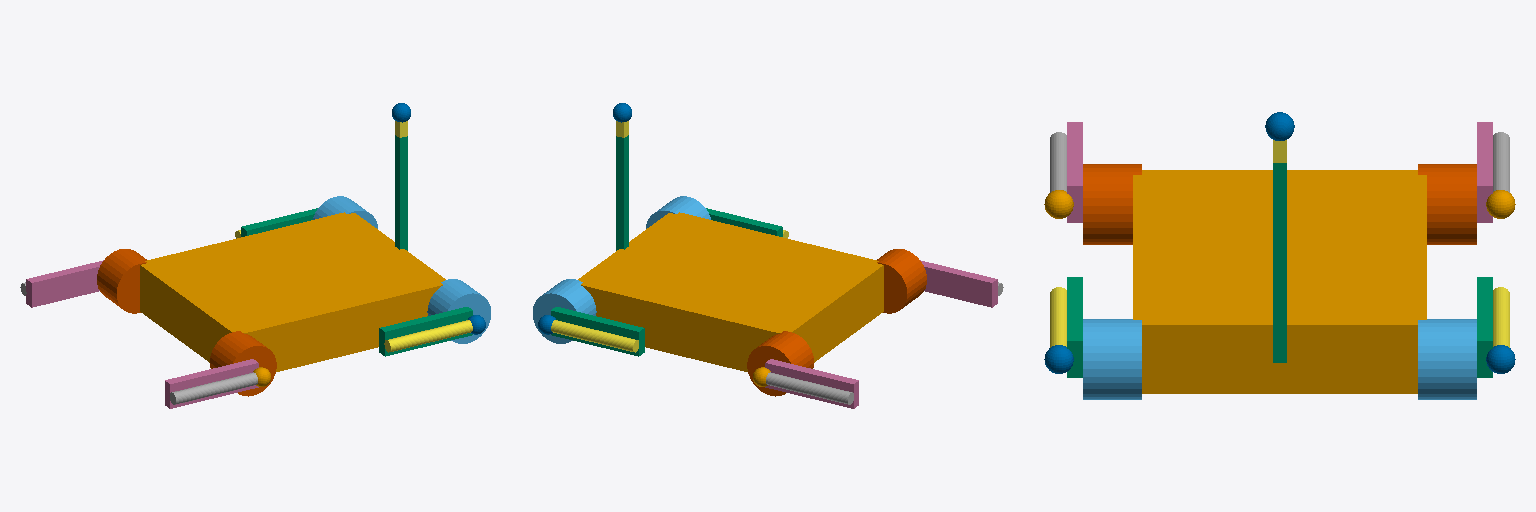
--- Facts derived from the render (not from the file) ---
3 views of the same robot in one strip: view 1: azimuth 30°, elevation 25°; view 2: azimuth 150°, elevation 25°; view 3: azimuth 270°, elevation 25° (orthographic).
Model spirit with 21 links and 20 joints (14 revolute, 6 fixed), rooted at body, posed joints at zero except 1 at the middle of their limits (body_tail_joint_0 = -1.57).
Links seen in each view (by area): view 1: body, hip1, upper1, hip3, hip2, upper2, upper3, tail_link_0, lower2, lower3, hip0, upper0; view 2: body, hip3, upper3, hip1, hip0, upper0, upper1, tail_link_0, lower1, lower0, hip2, upper2; view 3: body, hip0, hip2, hip1, hip3, tail_link_0, upper1, upper3, upper0, upper2, lower0, lower1 (+7 smaller).
Boxes of the visible links, bbox=[...] form: body: bbox=[140, 212, 445, 371]; hip1: bbox=[97, 249, 146, 313]; upper1: bbox=[26, 260, 103, 307]; hip3: bbox=[210, 331, 276, 396]; hip2: bbox=[427, 279, 490, 343]; upper2: bbox=[379, 307, 472, 356]; upper3: bbox=[165, 359, 258, 408]; tail_link_0: bbox=[395, 135, 407, 250]; lower2: bbox=[384, 320, 472, 352]; lower3: bbox=[170, 372, 257, 404]; hip0: bbox=[313, 196, 377, 228]; upper0: bbox=[241, 208, 317, 236]; body: bbox=[578, 212, 883, 371]; hip3: bbox=[877, 249, 926, 313]; upper3: bbox=[920, 260, 997, 307]; hip1: bbox=[747, 331, 813, 396]; hip0: bbox=[533, 279, 596, 343]; upper0: bbox=[551, 307, 644, 356]; upper1: bbox=[765, 359, 858, 408]; tail_link_0: bbox=[616, 135, 628, 250]; lower1: bbox=[766, 372, 853, 404]; lower0: bbox=[551, 320, 638, 352]; hip2: bbox=[646, 196, 710, 228]; upper2: bbox=[706, 208, 782, 236]; body: bbox=[1133, 170, 1426, 393]; hip0: bbox=[1418, 319, 1476, 399]; hip2: bbox=[1083, 319, 1141, 399]; hip1: bbox=[1418, 164, 1476, 244]; hip3: bbox=[1083, 164, 1141, 244]; tail_link_0: bbox=[1273, 163, 1286, 362]; upper1: bbox=[1477, 122, 1492, 222]; upper3: bbox=[1067, 122, 1082, 222]; upper0: bbox=[1477, 277, 1492, 377]; upper2: bbox=[1067, 277, 1082, 377]; lower0: bbox=[1493, 287, 1509, 347]; lower1: bbox=[1493, 132, 1509, 192].
Bounding box of the posed robot: 0.761 × 0.642 × 0.425 m (x, y, z).
Geometry: primitives only (box / cylinder / sphere), no mesh files.

robot.urdf — spirit:
<?xml version="1.0" encoding="utf-8"?>
<!-- =================================================================================== -->
<!-- |    This document was autogenerated by xacro from working_gazebo.urdf.xacro      | -->
<!-- |    EDITING THIS FILE BY HAND IS NOT RECOMMENDED                                 | -->
<!-- =================================================================================== -->
<!-- 
MIT License (modified)
Copyright (c) 2020 Ghost Robotics
Authors:
Avik De <[email redacted]>
Tom Jacobs <[email redacted]>
Permission is hereby granted, free of charge, to any person obtaining a copy
of this **file** (the "Software"), to deal
in the Software without restriction, including without limitation the rights
to use, copy, modify, merge, publish, distribute, sublicense, and/or sell
copies of the Software, and to permit persons to whom the Software is
furnished to do so, subject to the following conditions:
The above copyright notice and this permission notice shall be included in all
copies or substantial portions of the Software.
THE SOFTWARE IS PROVIDED "AS IS", WITHOUT WARRANTY OF ANY KIND, EXPRESS OR
IMPLIED, INCLUDING BUT NOT LIMITED TO THE WARRANTIES OF MERCHANTABILITY,
FITNESS FOR A PARTICULAR PURPOSE AND NONINFRINGEMENT. IN NO EVENT SHALL THE
AUTHORS OR COPYRIGHT HOLDERS BE LIABLE FOR ANY CLAIM, DAMAGES OR OTHER
LIABILITY, WHETHER IN AN ACTION OF CONTRACT, TORT OR OTHERWISE, ARISING FROM,
OUT OF OR IN CONNECTION WITH THE SOFTWARE OR THE USE OR OTHER DEALINGS IN THE
SOFTWARE. 
-->
<robot name="spirit">
  <!-- Body -->
  <link name="body">
    <visual>
      <origin rpy="0 0 0" xyz="0 0 0"/>
      <geometry>
        <box size="0.5 0.4 0.104"/>
      </geometry>
      <material name="darkgray"/>
    </visual>
    <inertial>
      <mass value="5.75"/>
      <!-- Uniform box -->
      <!-- <inertia ixx="1/12*${bodyMass}*(${bodyWidth}*${bodyWidth} + ${bodyHeight}*${bodyHeight})"  ixy="0"  ixz="0" iyy="1/12*${bodyMass}*(${bodyLength}*${bodyLength} + ${bodyHeight}*${bodyHeight})" iyz="0" izz="1/12*${bodyMass}*(${bodyLength}*${bodyLength} + ${bodyWidth}*${bodyWidth})"/> -->
      <inertia ixx="0.05" ixy="0" ixz="0" iyy="0.1" iyz="0" izz="0.1"/>
    </inertial>
    <!-- Just copy geometry for collision -->
    <collision>
      <origin rpy="0 0 0" xyz="0 0 0"/>
      <geometry>
        <box size="0.5 0.4 0.104"/>
      </geometry>
    </collision>
  </link>
  <gazebo reference="body">
    <material>Gazebo/Black</material>
    <gravity>true</gravity>
  </gazebo>
  <!-- Hip motor -->
  <link name="hip0">
    <visual>
      <origin rpy="1.5707963268 0 0" xyz="0 0.028 0"/>
      <geometry>
        <cylinder length="0.08" radius="0.055"/>
      </geometry>
    </visual>
    <collision>
      <origin rpy="1.5707963268 0 0" xyz="0 0.028 0"/>
      <geometry>
        <cylinder length="0.08" radius="0.055"/>
      </geometry>
    </collision>
    <inertial>
      <origin rpy="1.5707963268 0 0" xyz="0 0.028 0"/>
      <mass value="0.575"/>
      <!-- <inertia ixx="1/12*${podMass}*${podLength}*${podLength} + 1/4*${podMass}*${podRadius}*${podRadius}"  ixy="0"  ixz="0" iyy="1/12*${podMass}*${podLength}*${podLength} + 1/4*${podMass}*${podRadius}*${podRadius}" iyz="0" izz="1/2*${podMass}*${podRadius}*$
				{podRadius}" /> -->
      <inertia ixx="0.00066963541" ixy="0" ixz="0" iyy="0.00066963541" iyz="0" izz="0.0008696875"/>
    </inertial>
  </link>
  <gazebo reference="hip0">
    <material>Gazebo/Grey</material>
  </gazebo>
  <!-- Upper leg -->
  <link name="upper0">
    <visual>
      <origin rpy="0 0 0" xyz="-0.103 -0.022 0"/>
      <geometry>
        <box size="0.206 0.022 0.055"/>
      </geometry>
      <material name="silver"/>
    </visual>
    <collision>
      <origin rpy="0 0 0" xyz="-0.103 -0.022 0"/>
      <geometry>
        <box size="0.206 0.022 0.055"/>
      </geometry>
    </collision>
    <inertial>
      <origin rpy="0 0 0" xyz="-0.103 -0.022 0"/>
      <mass value="0.775"/>
      <inertia ixx="5e-05" ixy="0" ixz="0" iyy="0.001" iyz="0" izz="0.001"/>
    </inertial>
  </link>
  <gazebo reference="upper0">
    <material>Gazebo/DarkGrey</material>
  </gazebo>
  <!-- Abduction joint. Joint names are: 8 9 10 11 -->
  <joint name="8" type="revolute">
    <parent link="body"/>
    <child link="hip0"/>
    <axis xyz="1 0 0"/>
    <origin xyz="0.25 0.2 0"/>
    <limit effort="40" lower="-0.707" upper="0.707" velocity="30"/>
    <dynamics damping="0.0" friction="0.0"/>
  </joint>
  <!-- Transmission elements required for Gazebo -->
  <transmission name="transmission_8">
    <type>transmission_interface/SimpleTransmission</type>
    <joint name="8">
      <hardwareInterface>hardware_interface/EffortJointInterface</hardwareInterface>
    </joint>
    <actuator name="motor_8">
      <hardwareInterface>EffortJointInterface</hardwareInterface>
      <mechanicalReduction>1</mechanicalReduction>
    </actuator>
  </transmission>
  <!-- Hip joint. (Motor to upper leg). Joint names are: 0 2 4 6 -->
  <joint name="0" type="revolute">
    <parent link="hip0"/>
    <child link="upper0"/>
    <axis xyz="0 -1 0"/>
    <origin xyz="0 0.10098 0"/>
    <!--  rpy="0 -0.3 0" -->
    <limit effort="40" lower="-6.28318530718" upper="6.28318530718" velocity="30"/>
    <dynamics damping="0.0" friction="0.0"/>
  </joint>
  <!-- Transmission elements required for Gazebo -->
  <transmission name="transmission_0">
    <type>transmission_interface/SimpleTransmission</type>
    <joint name="0">
      <hardwareInterface>hardware_interface/EffortJointInterface</hardwareInterface>
    </joint>
    <actuator name="motor_0">
      <hardwareInterface>EffortJointInterface</hardwareInterface>
      <mechanicalReduction>1</mechanicalReduction>
    </actuator>
  </transmission>
  <!-- Lower leg -->
  <link name="lower0">
    <visual>
      <origin rpy="0 1.5707963268 0" xyz="0.103 0 0"/>
      <geometry>
        <cylinder length="0.206" radius="0.013"/>
      </geometry>
      <material name="darkgray"/>
    </visual>
    <collision>
      <origin rpy="0 1.5707963268 0" xyz="0.103 0 0"/>
      <geometry>
        <cylinder length="0.206" radius="0.013"/>
      </geometry>
    </collision>
    <inertial>
      <origin rpy="0 1.5707963268 0" xyz="0.103 0 0"/>
      <mass value="0.075"/>
      <inertia ixx="5e-06" ixy="0" ixz="0" iyy="0.0001" iyz="0" izz="0.0001"/>
    </inertial>
  </link>
  <gazebo reference="lower0">
    <material>Gazebo/Grey</material>
  </gazebo>
  <!-- Knee joint. Joint names are: 1 3 5 7 -->
  <joint name="1" type="revolute">
    <parent link="upper0"/>
    <child link="lower0"/>
    <axis xyz="0 1 0"/>
    <origin xyz="-0.206 0 0"/>
    <!--rpy="0 0.5 0"-->
    <limit effort="40" lower="0" upper="3.14159265359" velocity="30"/>
    <dynamics damping="0.0" friction="0.0"/>
  </joint>
  <!-- Transmission elements required for Gazebo -->
  <transmission name="transmission_1">
    <type>transmission_interface/SimpleTransmission</type>
    <joint name="1">
      <hardwareInterface>hardware_interface/EffortJointInterface</hardwareInterface>
    </joint>
    <actuator name="motor_1">
      <hardwareInterface>EffortJointInterface</hardwareInterface>
      <mechanicalReduction>1</mechanicalReduction>
    </actuator>
  </transmission>
  <!-- Toe -->
  <link name="toe0">
    <contact>
      <friction_anchor/>
      <stiffness value="30000.0"/>
      <damping value="1000.0"/>
      <spinning_friction value="0.3"/>
      <lateral_friction value="50.0"/>
    </contact>
    <visual>
      <origin rpy="0 0 0" xyz="0 0 0"/>
      <geometry>
        <sphere radius="0.02"/>
      </geometry>
      <material name="darkgray"/>
    </visual>
    <collision>
      <origin rpy="0 0 0" xyz="0 0 0"/>
      <geometry>
        <sphere radius="0.02"/>
      </geometry>
    </collision>
    <inertial>
      <mass value="0.015"/>
      <inertia ixx="0.000025" ixy="0" ixz="0" iyy="0.000025" iyz="0" izz="0.000025"/>
      <!-- <inertia ixx="2/5*${toeMass}*${toeRadius}*${toeRadius}"  ixy="0"  ixz="0" iyy="2/5*${toeMass}*${toeRadius}*${toeRadius}" iyz="0" izz="2/5*${toeMass}*${toeRadius}*${toeRadius}" /> -->
    </inertial>
  </link>
  <gazebo reference="toe0">
    <material>Gazebo/Black</material>
    <collision>
      <surface>
        <bounce>
          <restitution_coefficient>0</restitution_coefficient>
          <threshold>1e+06</threshold>
        </bounce>
        <friction>
          <torsional>
            <coefficient>0.3</coefficient>
          </torsional>
          <ode>
            <mu>100.0</mu>
            <mu2>50.0</mu2>
          </ode>
          <bullet>
            <rolling_friction>0.3</rolling_friction>
            <friction2>50.0</friction2>
          </bullet>
        </friction>
        <contact>
          <bullet>
            <kp>30000.0</kp>
            <kd>1000.0</kd>
          </bullet>
          <ode>
            <kp>30000.0</kp>
            <kd>1000.0</kd>
          </ode>
        </contact>
      </surface>
    </collision>
    <sensor name="toe0_contact" type="contact">
      <plugin filename="libgazebo_ros_bumper.so" name="toe0_plugin">
        <alwaysOn>1</alwaysOn>
        <updateRate>1000</updateRate>
        <bumperTopicName>gazebo/toe0_contact_state</bumperTopicName>
        <frameName>world</frameName>
        <robotNamespace>/</robotNamespace>
      </plugin>
      <contact>
        <collision>toe0_collision</collision>
        <topic>__default_topic__</topic>
      </contact>
      <update_rate>1000</update_rate>
    </sensor>
  </gazebo>
  <!-- Hip motor -->
  <link name="hip1">
    <visual>
      <origin rpy="1.5707963268 0 0" xyz="0 0.028 0"/>
      <geometry>
        <cylinder length="0.08" radius="0.055"/>
      </geometry>
    </visual>
    <collision>
      <origin rpy="1.5707963268 0 0" xyz="0 0.028 0"/>
      <geometry>
        <cylinder length="0.08" radius="0.055"/>
      </geometry>
    </collision>
    <inertial>
      <origin rpy="1.5707963268 0 0" xyz="0 0.028 0"/>
      <mass value="0.575"/>
      <!-- <inertia ixx="1/12*${podMass}*${podLength}*${podLength} + 1/4*${podMass}*${podRadius}*${podRadius}"  ixy="0"  ixz="0" iyy="1/12*${podMass}*${podLength}*${podLength} + 1/4*${podMass}*${podRadius}*${podRadius}" iyz="0" izz="1/2*${podMass}*${podRadius}*$
				{podRadius}" /> -->
      <inertia ixx="0.00066963541" ixy="0" ixz="0" iyy="0.00066963541" iyz="0" izz="0.0008696875"/>
    </inertial>
  </link>
  <gazebo reference="hip1">
    <material>Gazebo/Grey</material>
  </gazebo>
  <!-- Upper leg -->
  <link name="upper1">
    <visual>
      <origin rpy="0 0 0" xyz="-0.103 -0.022 0"/>
      <geometry>
        <box size="0.206 0.022 0.055"/>
      </geometry>
      <material name="silver"/>
    </visual>
    <collision>
      <origin rpy="0 0 0" xyz="-0.103 -0.022 0"/>
      <geometry>
        <box size="0.206 0.022 0.055"/>
      </geometry>
    </collision>
    <inertial>
      <origin rpy="0 0 0" xyz="-0.103 -0.022 0"/>
      <mass value="0.775"/>
      <inertia ixx="5e-05" ixy="0" ixz="0" iyy="0.001" iyz="0" izz="0.001"/>
    </inertial>
  </link>
  <gazebo reference="upper1">
    <material>Gazebo/DarkGrey</material>
  </gazebo>
  <!-- Abduction joint. Joint names are: 8 9 10 11 -->
  <joint name="9" type="revolute">
    <parent link="body"/>
    <child link="hip1"/>
    <axis xyz="1 0 0"/>
    <origin xyz="-0.25 0.2 0"/>
    <limit effort="40" lower="-0.707" upper="0.707" velocity="30"/>
    <dynamics damping="0.0" friction="0.0"/>
  </joint>
  <!-- Transmission elements required for Gazebo -->
  <transmission name="transmission_9">
    <type>transmission_interface/SimpleTransmission</type>
    <joint name="9">
      <hardwareInterface>hardware_interface/EffortJointInterface</hardwareInterface>
    </joint>
    <actuator name="motor_9">
      <hardwareInterface>EffortJointInterface</hardwareInterface>
      <mechanicalReduction>1</mechanicalReduction>
    </actuator>
  </transmission>
  <!-- Hip joint. (Motor to upper leg). Joint names are: 0 2 4 6 -->
  <joint name="2" type="revolute">
    <parent link="hip1"/>
    <child link="upper1"/>
    <axis xyz="0 -1 0"/>
    <origin xyz="0 0.10098 0"/>
    <!--  rpy="0 -0.3 0" -->
    <limit effort="40" lower="-6.28318530718" upper="6.28318530718" velocity="30"/>
    <dynamics damping="0.0" friction="0.0"/>
  </joint>
  <!-- Transmission elements required for Gazebo -->
  <transmission name="transmission_2">
    <type>transmission_interface/SimpleTransmission</type>
    <joint name="2">
      <hardwareInterface>hardware_interface/EffortJointInterface</hardwareInterface>
    </joint>
    <actuator name="motor_2">
      <hardwareInterface>EffortJointInterface</hardwareInterface>
      <mechanicalReduction>1</mechanicalReduction>
    </actuator>
  </transmission>
  <!-- Lower leg -->
  <link name="lower1">
    <visual>
      <origin rpy="0 1.5707963268 0" xyz="0.103 0 0"/>
      <geometry>
        <cylinder length="0.206" radius="0.013"/>
      </geometry>
      <material name="darkgray"/>
    </visual>
    <collision>
      <origin rpy="0 1.5707963268 0" xyz="0.103 0 0"/>
      <geometry>
        <cylinder length="0.206" radius="0.013"/>
      </geometry>
    </collision>
    <inertial>
      <origin rpy="0 1.5707963268 0" xyz="0.103 0 0"/>
      <mass value="0.075"/>
      <inertia ixx="5e-06" ixy="0" ixz="0" iyy="0.0001" iyz="0" izz="0.0001"/>
    </inertial>
  </link>
  <gazebo reference="lower1">
    <material>Gazebo/Grey</material>
  </gazebo>
  <!-- Knee joint. Joint names are: 1 3 5 7 -->
  <joint name="3" type="revolute">
    <parent link="upper1"/>
    <child link="lower1"/>
    <axis xyz="0 1 0"/>
    <origin xyz="-0.206 0 0"/>
    <!--rpy="0 0.5 0"-->
    <limit effort="40" lower="0" upper="3.14159265359" velocity="30"/>
    <dynamics damping="0.0" friction="0.0"/>
  </joint>
  <!-- Transmission elements required for Gazebo -->
  <transmission name="transmission_3">
    <type>transmission_interface/SimpleTransmission</type>
    <joint name="3">
      <hardwareInterface>hardware_interface/EffortJointInterface</hardwareInterface>
    </joint>
    <actuator name="motor_3">
      <hardwareInterface>EffortJointInterface</hardwareInterface>
      <mechanicalReduction>1</mechanicalReduction>
    </actuator>
  </transmission>
  <!-- Toe -->
  <link name="toe1">
    <contact>
      <friction_anchor/>
      <stiffness value="30000.0"/>
      <damping value="1000.0"/>
      <spinning_friction value="0.3"/>
      <lateral_friction value="50.0"/>
    </contact>
    <visual>
      <origin rpy="0 0 0" xyz="0 0 0"/>
      <geometry>
        <sphere radius="0.02"/>
      </geometry>
      <material name="darkgray"/>
    </visual>
    <collision>
      <origin rpy="0 0 0" xyz="0 0 0"/>
      <geometry>
        <sphere radius="0.02"/>
      </geometry>
    </collision>
    <inertial>
      <mass value="0.015"/>
      <inertia ixx="0.000025" ixy="0" ixz="0" iyy="0.000025" iyz="0" izz="0.000025"/>
      <!-- <inertia ixx="2/5*${toeMass}*${toeRadius}*${toeRadius}"  ixy="0"  ixz="0" iyy="2/5*${toeMass}*${toeRadius}*${toeRadius}" iyz="0" izz="2/5*${toeMass}*${toeRadius}*${toeRadius}" /> -->
    </inertial>
  </link>
  <gazebo reference="toe1">
    <material>Gazebo/Black</material>
    <collision>
      <surface>
        <bounce>
          <restitution_coefficient>0</restitution_coefficient>
          <threshold>1e+06</threshold>
        </bounce>
        <friction>
          <torsional>
            <coefficient>0.3</coefficient>
          </torsional>
          <ode>
            <mu>100.0</mu>
            <mu2>50.0</mu2>
          </ode>
          <bullet>
            <rolling_friction>0.3</rolling_friction>
            <friction2>50.0</friction2>
          </bullet>
        </friction>
        <contact>
          <bullet>
            <kp>30000.0</kp>
            <kd>1000.0</kd>
          </bullet>
          <ode>
            <kp>30000.0</kp>
            <kd>1000.0</kd>
          </ode>
        </contact>
      </surface>
    </collision>
    <sensor name="toe1_contact" type="contact">
      <plugin filename="libgazebo_ros_bumper.so" name="toe1_plugin">
        <alwaysOn>1</alwaysOn>
        <updateRate>1000</updateRate>
        <bumperTopicName>gazebo/toe1_contact_state</bumperTopicName>
        <frameName>world</frameName>
        <robotNamespace>/</robotNamespace>
      </plugin>
      <contact>
        <collision>toe1_collision</collision>
        <topic>__default_topic__</topic>
      </contact>
      <update_rate>1000</update_rate>
    </sensor>
  </gazebo>
  <!-- Hip motor -->
  <link name="hip2">
    <visual>
      <origin rpy="1.5707963268 0 0" xyz="0 -0.028 0"/>
      <geometry>
        <cylinder length="0.08" radius="0.055"/>
      </geometry>
    </visual>
    <collision>
      <origin rpy="1.5707963268 0 0" xyz="0 -0.028 0"/>
      <geometry>
        <cylinder length="0.08" radius="0.055"/>
      </geometry>
    </collision>
    <inertial>
      <origin rpy="1.5707963268 0 0" xyz="0 -0.028 0"/>
      <mass value="0.575"/>
      <!-- <inertia ixx="1/12*${podMass}*${podLength}*${podLength} + 1/4*${podMass}*${podRadius}*${podRadius}"  ixy="0"  ixz="0" iyy="1/12*${podMass}*${podLength}*${podLength} + 1/4*${podMass}*${podRadius}*${podRadius}" iyz="0" izz="1/2*${podMass}*${podRadius}*$
				{podRadius}" /> -->
      <inertia ixx="0.00066963541" ixy="0" ixz="0" iyy="0.00066963541" iyz="0" izz="0.0008696875"/>
    </inertial>
  </link>
  <gazebo reference="hip2">
    <material>Gazebo/Grey</material>
  </gazebo>
  <!-- Upper leg -->
  <link name="upper2">
    <visual>
      <origin rpy="0 0 0" xyz="-0.103 0.022 0"/>
      <geometry>
        <box size="0.206 0.022 0.055"/>
      </geometry>
      <material name="silver"/>
    </visual>
    <collision>
      <origin rpy="0 0 0" xyz="-0.103 0.022 0"/>
      <geometry>
        <box size="0.206 0.022 0.055"/>
      </geometry>
    </collision>
    <inertial>
      <origin rpy="0 0 0" xyz="-0.103 0.022 0"/>
      <mass value="0.775"/>
      <inertia ixx="5e-05" ixy="0" ixz="0" iyy="0.001" iyz="0" izz="0.001"/>
    </inertial>
  </link>
  <gazebo reference="upper2">
    <material>Gazebo/DarkGrey</material>
  </gazebo>
  <!-- Abduction joint. Joint names are: 8 9 10 11 -->
  <joint name="10" type="revolute">
    <parent link="body"/>
    <child link="hip2"/>
    <axis xyz="1 0 0"/>
    <origin xyz="0.25 -0.2 0"/>
    <limit effort="40" lower="-0.707" upper="0.707" velocity="30"/>
    <dynamics damping="0.0" friction="0.0"/>
  </joint>
  <!-- Transmission elements required for Gazebo -->
  <transmission name="transmission_10">
    <type>transmission_interface/SimpleTransmission</type>
    <joint name="10">
      <hardwareInterface>hardware_interface/EffortJointInterface</hardwareInterface>
    </joint>
    <actuator name="motor_10">
      <hardwareInterface>EffortJointInterface</hardwareInterface>
      <mechanicalReduction>1</mechanicalReduction>
    </actuator>
  </transmission>
  <!-- Hip joint. (Motor to upper leg). Joint names are: 0 2 4 6 -->
  <joint name="4" type="revolute">
    <parent link="hip2"/>
    <child link="upper2"/>
    <axis xyz="0 -1 0"/>
    <origin xyz="0 -0.10098 0"/>
    <!--  rpy="0 -0.3 0" -->
    <limit effort="40" lower="-6.28318530718" upper="6.28318530718" velocity="30"/>
    <dynamics damping="0.0" friction="0.0"/>
  </joint>
  <!-- Transmission elements required for Gazebo -->
  <transmission name="transmission_4">
    <type>transmission_interface/SimpleTransmission</type>
    <joint name="4">
      <hardwareInterface>hardware_interface/EffortJointInterface</hardwareInterface>
    </joint>
    <actuator name="motor_4">
      <hardwareInterface>EffortJointInterface</hardwareInterface>
      <mechanicalReduction>1</mechanicalReduction>
    </actuator>
  </transmission>
  <!-- Lower leg -->
  <link name="lower2">
    <visual>
      <origin rpy="0 1.5707963268 0" xyz="0.103 0 0"/>
      <geometry>
        <cylinder length="0.206" radius="0.013"/>
      </geometry>
      <material name="darkgray"/>
    </visual>
    <collision>
      <origin rpy="0 1.5707963268 0" xyz="0.103 0 0"/>
      <geometry>
        <cylinder length="0.206" radius="0.013"/>
      </geometry>
    </collision>
    <inertial>
      <origin rpy="0 1.5707963268 0" xyz="0.103 0 0"/>
      <mass value="0.075"/>
      <inertia ixx="5e-06" ixy="0" ixz="0" iyy="0.0001" iyz="0" izz="0.0001"/>
    </inertial>
  </link>
  <gazebo reference="lower2">
    <material>Gazebo/Grey</material>
  </gazebo>
  <!-- Knee joint. Joint names are: 1 3 5 7 -->
  <joint name="5" type="revolute">
    <parent link="upper2"/>
    <child link="lower2"/>
    <axis xyz="0 1 0"/>
    <origin xyz="-0.206 0 0"/>
    <!--rpy="0 0.5 0"-->
    <limit effort="40" lower="0" upper="3.14159265359" velocity="30"/>
    <dynamics damping="0.0" friction="0.0"/>
  </joint>
  <!-- Transmission elements required for Gazebo -->
  <transmission name="transmission_5">
    <type>transmission_interface/SimpleTransmission</type>
    <joint name="5">
      <hardwareInterface>hardware_interface/EffortJointInterface</hardwareInterface>
    </joint>
    <actuator name="motor_5">
      <hardwareInterface>EffortJointInterface</hardwareInterface>
      <mechanicalReduction>1</mechanicalReduction>
    </actuator>
  </transmission>
  <!-- Toe -->
  <link name="toe2">
    <contact>
      <friction_anchor/>
      <stiffness value="30000.0"/>
      <damping value="1000.0"/>
      <spinning_friction value="0.3"/>
      <lateral_friction value="50.0"/>
    </contact>
    <visual>
      <origin rpy="0 0 0" xyz="0 0 0"/>
      <geometry>
        <sphere radius="0.02"/>
      </geometry>
      <material name="darkgray"/>
    </visual>
    <collision>
      <origin rpy="0 0 0" xyz="0 0 0"/>
      <geometry>
        <sphere radius="0.02"/>
      </geometry>
    </collision>
    <inertial>
      <mass value="0.015"/>
      <inertia ixx="0.000025" ixy="0" ixz="0" iyy="0.000025" iyz="0" izz="0.000025"/>
      <!-- <inertia ixx="2/5*${toeMass}*${toeRadius}*${toeRadius}"  ixy="0"  ixz="0" iyy="2/5*${toeMass}*${toeRadius}*${toeRadius}" iyz="0" izz="2/5*${toeMass}*${toeRadius}*${toeRadius}" /> -->
    </inertial>
  </link>
  <gazebo reference="toe2">
    <material>Gazebo/Black</material>
    <collision>
      <surface>
        <bounce>
          <restitution_coefficient>0</restitution_coefficient>
          <threshold>1e+06</threshold>
        </bounce>
        <friction>
          <torsional>
            <coefficient>0.3</coefficient>
          </torsional>
          <ode>
            <mu>100.0</mu>
            <mu2>50.0</mu2>
          </ode>
          <bullet>
            <rolling_friction>0.3</rolling_friction>
            <friction2>50.0</friction2>
          </bullet>
        </friction>
        <contact>
          <bullet>
            <kp>30000.0</kp>
            <kd>1000.0</kd>
          </bullet>
          <ode>
            <kp>30000.0</kp>
            <kd>1000.0</kd>
          </ode>
        </contact>
      </surface>
    </collision>
    <sensor name="toe2_contact" type="contact">
      <plugin filename="libgazebo_ros_bumper.so" name="toe2_plugin">
        <alwaysOn>1</alwaysOn>
        <updateRate>1000</updateRate>
        <bumperTopicName>gazebo/toe2_contact_state</bumperTopicName>
        <frameName>world</frameName>
        <robotNamespace>/</robotNamespace>
      </plugin>
      <contact>
        <collision>toe2_collision</collision>
        <topic>__default_topic__</topic>
      </contact>
      <update_rate>1000</update_rate>
    </sensor>
  </gazebo>
  <!-- Hip motor -->
  <link name="hip3">
    <visual>
      <origin rpy="1.5707963268 0 0" xyz="0 -0.028 0"/>
      <geometry>
        <cylinder length="0.08" radius="0.055"/>
      </geometry>
    </visual>
    <collision>
      <origin rpy="1.5707963268 0 0" xyz="0 -0.028 0"/>
      <geometry>
        <cylinder length="0.08" radius="0.055"/>
      </geometry>
    </collision>
    <inertial>
      <origin rpy="1.5707963268 0 0" xyz="0 -0.028 0"/>
      <mass value="0.575"/>
      <!-- <inertia ixx="1/12*${podMass}*${podLength}*${podLength} + 1/4*${podMass}*${podRadius}*${podRadius}"  ixy="0"  ixz="0" iyy="1/12*${podMass}*${podLength}*${podLength} + 1/4*${podMass}*${podRadius}*${podRadius}" iyz="0" izz="1/2*${podMass}*${podRadius}*$
				{podRadius}" /> -->
      <inertia ixx="0.00066963541" ixy="0" ixz="0" iyy="0.00066963541" iyz="0" izz="0.0008696875"/>
    </inertial>
  </link>
  <gazebo reference="hip3">
    <material>Gazebo/Grey</material>
  </gazebo>
  <!-- Upper leg -->
  <link name="upper3">
    <visual>
      <origin rpy="0 0 0" xyz="-0.103 0.022 0"/>
      <geometry>
        <box size="0.206 0.022 0.055"/>
      </geometry>
      <material name="silver"/>
    </visual>
    <collision>
      <origin rpy="0 0 0" xyz="-0.103 0.022 0"/>
      <geometry>
        <box size="0.206 0.022 0.055"/>
      </geometry>
    </collision>
    <inertial>
      <origin rpy="0 0 0" xyz="-0.103 0.022 0"/>
      <mass value="0.775"/>
      <inertia ixx="5e-05" ixy="0" ixz="0" iyy="0.001" iyz="0" izz="0.001"/>
    </inertial>
  </link>
  <gazebo reference="upper3">
    <material>Gazebo/DarkGrey</material>
  </gazebo>
  <!-- Abduction joint. Joint names are: 8 9 10 11 -->
  <joint name="11" type="revolute">
    <parent link="body"/>
    <child link="hip3"/>
    <axis xyz="1 0 0"/>
    <origin xyz="-0.25 -0.2 0"/>
    <limit effort="40" lower="-0.707" upper="0.707" velocity="30"/>
    <dynamics damping="0.0" friction="0.0"/>
  </joint>
  <!-- Transmission elements required for Gazebo -->
  <transmission name="transmission_11">
    <type>transmission_interface/SimpleTransmission</type>
    <joint name="11">
      <hardwareInterface>hardware_interface/EffortJointInterface</hardwareInterface>
    </joint>
    <actuator name="motor_11">
      <hardwareInterface>EffortJointInterface</hardwareInterface>
      <mechanicalReduction>1</mechanicalReduction>
    </actuator>
  </transmission>
  <!-- Hip joint. (Motor to upper leg). Joint names are: 0 2 4 6 -->
  <joint name="6" type="revolute">
    <parent link="hip3"/>
    <child link="upper3"/>
    <axis xyz="0 -1 0"/>
    <origin xyz="0 -0.10098 0"/>
    <!--  rpy="0 -0.3 0" -->
    <limit effort="40" lower="-6.28318530718" upper="6.28318530718" velocity="30"/>
    <dynamics damping="0.0" friction="0.0"/>
  </joint>
  <!-- Transmission elements required for Gazebo -->
  <transmission name="transmission_6">
    <type>transmission_interface/SimpleTransmission</type>
    <joint name="6">
      <hardwareInterface>hardware_interface/EffortJointInterface</hardwareInterface>
    </joint>
    <actuator name="motor_6">
      <hardwareInterface>EffortJointInterface</hardwareInterface>
      <mechanicalReduction>1</mechanicalReduction>
    </actuator>
  </transmission>
  <!-- Lower leg -->
  <link name="lower3">
    <visual>
      <origin rpy="0 1.5707963268 0" xyz="0.103 0 0"/>
      <geometry>
        <cylinder length="0.206" radius="0.013"/>
      </geometry>
      <material name="darkgray"/>
    </visual>
    <collision>
      <origin rpy="0 1.5707963268 0" xyz="0.103 0 0"/>
      <geometry>
        <cylinder length="0.206" radius="0.013"/>
      </geometry>
    </collision>
    <inertial>
      <origin rpy="0 1.5707963268 0" xyz="0.103 0 0"/>
      <mass value="0.075"/>
      <inertia ixx="5e-06" ixy="0" ixz="0" iyy="0.0001" iyz="0" izz="0.0001"/>
    </inertial>
  </link>
  <gazebo reference="lower3">
    <material>Gazebo/Grey</material>
  </gazebo>
  <!-- Knee joint. Joint names are: 1 3 5 7 -->
  <joint name="7" type="revolute">
    <parent link="upper3"/>
    <child link="lower3"/>
    <axis xyz="0 1 0"/>
    <origin xyz="-0.206 0 0"/>
    <!--rpy="0 0.5 0"-->
    <limit effort="40" lower="0" upper="3.14159265359" velocity="30"/>
    <dynamics damping="0.0" friction="0.0"/>
  </joint>
  <!-- Transmission elements required for Gazebo -->
  <transmission name="transmission_7">
    <type>transmission_interface/SimpleTransmission</type>
    <joint name="7">
      <hardwareInterface>hardware_interface/EffortJointInterface</hardwareInterface>
    </joint>
    <actuator name="motor_7">
      <hardwareInterface>EffortJointInterface</hardwareInterface>
      <mechanicalReduction>1</mechanicalReduction>
    </actuator>
  </transmission>
  <!-- Toe -->
  <link name="toe3">
    <contact>
      <friction_anchor/>
      <stiffness value="30000.0"/>
      <damping value="1000.0"/>
      <spinning_friction value="0.3"/>
      <lateral_friction value="50.0"/>
    </contact>
    <visual>
      <origin rpy="0 0 0" xyz="0 0 0"/>
      <geometry>
        <sphere radius="0.02"/>
      </geometry>
      <material name="darkgray"/>
    </visual>
    <collision>
      <origin rpy="0 0 0" xyz="0 0 0"/>
      <geometry>
        <sphere radius="0.02"/>
      </geometry>
    </collision>
    <inertial>
      <mass value="0.015"/>
      <inertia ixx="0.000025" ixy="0" ixz="0" iyy="0.000025" iyz="0" izz="0.000025"/>
      <!-- <inertia ixx="2/5*${toeMass}*${toeRadius}*${toeRadius}"  ixy="0"  ixz="0" iyy="2/5*${toeMass}*${toeRadius}*${toeRadius}" iyz="0" izz="2/5*${toeMass}*${toeRadius}*${toeRadius}" /> -->
    </inertial>
  </link>
  <gazebo reference="toe3">
    <material>Gazebo/Black</material>
    <collision>
      <surface>
        <bounce>
          <restitution_coefficient>0</restitution_coefficient>
          <threshold>1e+06</threshold>
        </bounce>
        <friction>
          <torsional>
            <coefficient>0.3</coefficient>
          </torsional>
          <ode>
            <mu>100.0</mu>
            <mu2>50.0</mu2>
          </ode>
          <bullet>
            <rolling_friction>0.3</rolling_friction>
            <friction2>50.0</friction2>
          </bullet>
        </friction>
        <contact>
          <bullet>
            <kp>30000.0</kp>
            <kd>1000.0</kd>
          </bullet>
          <ode>
            <kp>30000.0</kp>
            <kd>1000.0</kd>
          </ode>
        </contact>
      </surface>
    </collision>
    <sensor name="toe3_contact" type="contact">
      <plugin filename="libgazebo_ros_bumper.so" name="toe3_plugin">
        <alwaysOn>1</alwaysOn>
        <updateRate>1000</updateRate>
        <bumperTopicName>gazebo/toe3_contact_state</bumperTopicName>
        <frameName>world</frameName>
        <robotNamespace>/</robotNamespace>
      </plugin>
      <contact>
        <collision>toe3_collision</collision>
        <topic>__default_topic__</topic>
      </contact>
      <update_rate>1000</update_rate>
    </sensor>
  </gazebo>
  <link name="imu::link">
    <visual>
      <origin rpy="0 0 0" xyz="0 0 0"/>
      <geometry>
        <sphere radius="0.02"/>
      </geometry>
      <material name="gray"/>
    </visual>
    <inertial>
      <mass value="0.001"/>
      <inertia ixx="0.0001" ixy="0" ixz="0" iyy="0" iyz="0" izz="0"/>
    </inertial>
  </link>
  <gazebo reference="imu::link">
    <material>Gazebo/Gray</material>
    <sensor name="imu_sensor" type="imu">
      <always_on>1</always_on>
      <update_rate>100</update_rate>
      <visualize>1</visualize>
      <topic>__default_topic__</topic>
      <plugin filename="libgazebo_ros_imu_sensor.so" name="imu_plugin">
        <topicName>/mcu/state/imu</topicName>
        <bodyName>imu::link</bodyName>
        <robotNamespace>/</robotNamespace>
        <updateRateHZ>500.0</updateRateHZ>
        <gaussianNoise>0.0</gaussianNoise>
        <xyzOffset>0 0 0</xyzOffset>
        <rpyOffset>0 0 0</rpyOffset>
        <frameName>imu::link</frameName>
        <initialOrientationAsReference>0</initialOrientationAsReference>
      </plugin>
      <pose frame="">0 0 0 0 -0 0</pose>
      <imu/>
    </sensor>
  </gazebo>
  <link name="tail_link_0">
    <visual>
      <origin rpy="0 0 0" xyz="0.15 0 0"/>
      <geometry>
        <box size="0.3 0.02 0.02"/>
      </geometry>
      <material name="darkgray"/>
    </visual>
    <inertial>
      <origin rpy="0 0 0" xyz="0.15 0 0"/>
      <mass value="0.012"/>
      <inertia ixx="0.0001" ixy="0" ixz="0" iyy="0.0001" iyz="0" izz="0.0001"/>
    </inertial>
    <!-- Just copy geometry for collision -->
    <!-- <collision>
		<origin rpy="0 0 0" xyz="${neckLength1/2} 0 0"/>
			<geometry>
				<box size="${neckLength1} ${neckWidth} ${neckHeight}"/>
			</geometry>
		</collision> -->
  </link>
  <gazebo reference="tail_link_0">
    <material>Gazebo/Gray</material>
  </gazebo>
  <link name="tail_link_1">
    <visual>
      <origin rpy="0 0 0" xyz="0.025 0 0"/>
      <geometry>
        <box size="0.05 0.02 0.02"/>
      </geometry>
      <material name="darkgray"/>
    </visual>
    <inertial>
      <origin rpy="0 0 0" xyz="0.025 0 0"/>
      <mass value="0.0002"/>
      <inertia ixx="0.0001" ixy="0" ixz="0" iyy="0.0001" iyz="0" izz="0.0001"/>
    </inertial>
    <!-- Just copy geometry for collision -->
    <!-- <collision>
		<origin rpy="0 0 0" xyz="${neckLength2/2} 0 0"/>
			<geometry>
				<box size="${neckLength2} ${neckWidth} ${neckHeight}"/>
			</geometry>
		</collision> -->
  </link>
  <gazebo reference="tail_link_1">
    <material>Gazebo/Gray</material>
  </gazebo>
  <link name="tail_mass">
    <visual>
      <origin rpy="0 0 0" xyz="0 0 0"/>
      <geometry>
        <sphere radius="0.02"/>
      </geometry>
      <material name="gray"/>
    </visual>
    <inertial>
      <mass value="0.01"/>
      <inertia ixx="0.001" ixy="0" ixz="0" iyy="0" iyz="0" izz="0"/>
    </inertial>
    <collision>
      <origin rpy="0 0 0" xyz="0 0 0"/>
      <geometry>
        <sphere radius="0.02"/>
      </geometry>
    </collision>
  </link>
  <gazebo reference="tail_mass">
    <material>Gazebo/Gray</material>
  </gazebo>
  <joint name="body_tail_joint_0" type="revolute">
    <parent link="body"/>
    <child link="tail_link_0"/>
    <axis xyz="0 1 0"/>
    <!-- <origin xyz="${neckAttachmentX} 0 0"/> -->
    <origin xyz="0.25 0 0"/>
    <limit effort="35" lower="-1.57" upper="-1.57" velocity="1000000"/>
    <dynamics damping="0.0" friction="0.0"/>
  </joint>
  <!-- Transmission elements required for Gazebo -->
  <transmission name="transmission_body_tail_joint_0">
    <type>transmission_interface/SimpleTransmission</type>
    <joint name="body_tail_joint_0">
      <hardwareInterface>hardware_interface/EffortJointInterface</hardwareInterface>
    </joint>
    <actuator name="motor_body_tail_joint_0">
      <hardwareInterface>EffortJointInterface</hardwareInterface>
      <mechanicalReduction>1</mechanicalReduction>
    </actuator>
  </transmission>
  <joint name="body_tail_joint_1" type="revolute">
    <parent link="tail_link_0"/>
    <child link="tail_link_1"/>
    <axis xyz="0 1 0"/>
    <origin xyz="0.3 0 0"/>
    <limit effort="35" lower="-1.57" upper="1.57" velocity="1000000"/>
    <dynamics damping="0.0" friction="0.0"/>
  </joint>
  <!-- Transmission elements required for Gazebo -->
  <transmission name="transmission_body_tail_joint_1">
    <type>transmission_interface/SimpleTransmission</type>
    <joint name="body_tail_joint_1">
      <hardwareInterface>hardware_interface/EffortJointInterface</hardwareInterface>
    </joint>
    <actuator name="motor_body_tail_joint_1">
      <hardwareInterface>EffortJointInterface</hardwareInterface>
      <mechanicalReduction>1</mechanicalReduction>
    </actuator>
  </transmission>
  <joint name="tail_link_mass_joint" type="fixed">
    <parent link="tail_link_1"/>
    <child link="tail_mass"/>
    <origin xyz="0.05 0 0"/>
    <dynamics damping="0.0" friction="0.0"/>
  </joint>
  <gazebo reference="tail_link_mass_joint">
    <disableFixedJointLumping>1</disableFixedJointLumping>
    <preserveFixedJoint>1</preserveFixedJoint>
  </gazebo>
  <joint name="jtoe0" type="fixed">
    <parent link="lower0"/>
    <child link="toe0"/>
    <origin xyz="0.206 0 -0.0"/>
    <dynamics damping="0.0" friction="0.0"/>
  </joint>
  <gazebo reference="jtoe0">
    <disableFixedJointLumping>1</disableFixedJointLumping>
    <preserveFixedJoint>1</preserveFixedJoint>
  </gazebo>
  <joint name="jtoe1" type="fixed">
    <parent link="lower1"/>
    <child link="toe1"/>
    <origin xyz="0.206 0 -0.0"/>
    <dynamics damping="0.0" friction="0.0"/>
  </joint>
  <gazebo reference="jtoe1">
    <disableFixedJointLumping>1</disableFixedJointLumping>
    <preserveFixedJoint>1</preserveFixedJoint>
  </gazebo>
  <joint name="jtoe2" type="fixed">
    <parent link="lower2"/>
    <child link="toe2"/>
    <origin xyz="0.206 0 -0.0"/>
    <dynamics damping="0.0" friction="0.0"/>
  </joint>
  <gazebo reference="jtoe2">
    <disableFixedJointLumping>1</disableFixedJointLumping>
    <preserveFixedJoint>1</preserveFixedJoint>
  </gazebo>
  <joint name="jtoe3" type="fixed">
    <parent link="lower3"/>
    <child link="toe3"/>
    <origin xyz="0.206 0 -0.0"/>
    <dynamics damping="0.0" friction="0.0"/>
  </joint>
  <gazebo reference="jtoe3">
    <disableFixedJointLumping>1</disableFixedJointLumping>
    <preserveFixedJoint>1</preserveFixedJoint>
  </gazebo>
  <joint name="imu_joint" type="fixed">
    <parent link="body"/>
    <child link="imu::link"/>
  </joint>
  <gazebo reference="imu_joint">
    <disableFixedJointLumping>1</disableFixedJointLumping>
    <preserveFixedJoint>1</preserveFixedJoint>
  </gazebo>
  <!--    CUSTOMIZED SECTIONS	ABOVE. NOT FROM GHOST ROBOTICS.    -->
  <!-- Add ros_control plugin -->
  <gazebo>
    <plugin filename="libgazebo_ros_control.so" name="gazebo_ros_control">
      <robotNamespace>/spirit</robotNamespace>
      <controlPeriod>0.002</controlPeriod>
    </plugin>
    <plugin filename="libground_truth_estimator.so" name="ground_truth_estimator">
      <updateRateHZ>500.0</updateRateHZ>
      <robotNamespace>/</robotNamespace>
    </plugin>
  </gazebo>
</robot>
